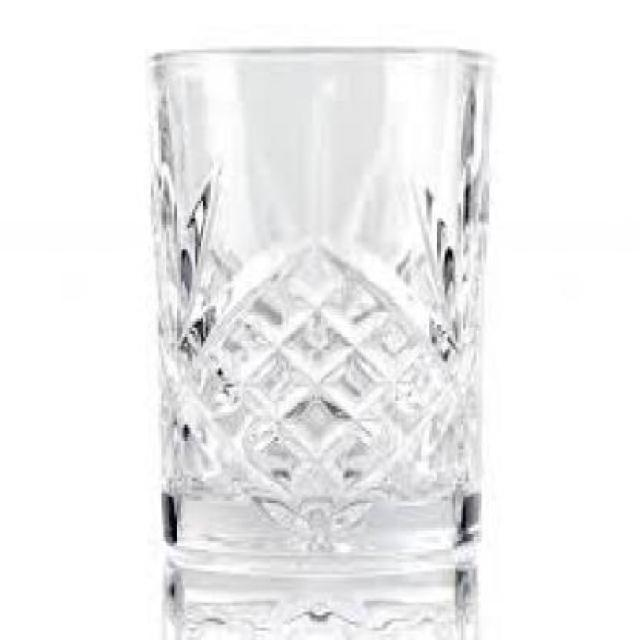kaca: (146, 45, 494, 569)
